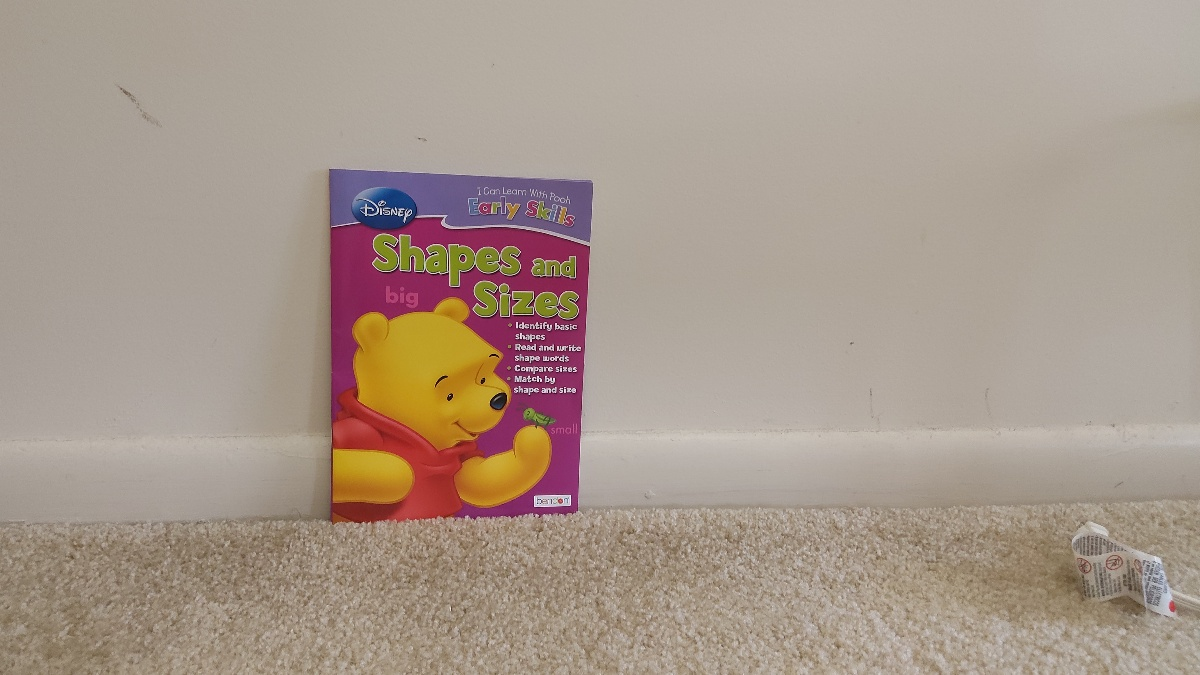book: (331, 170, 577, 511)
